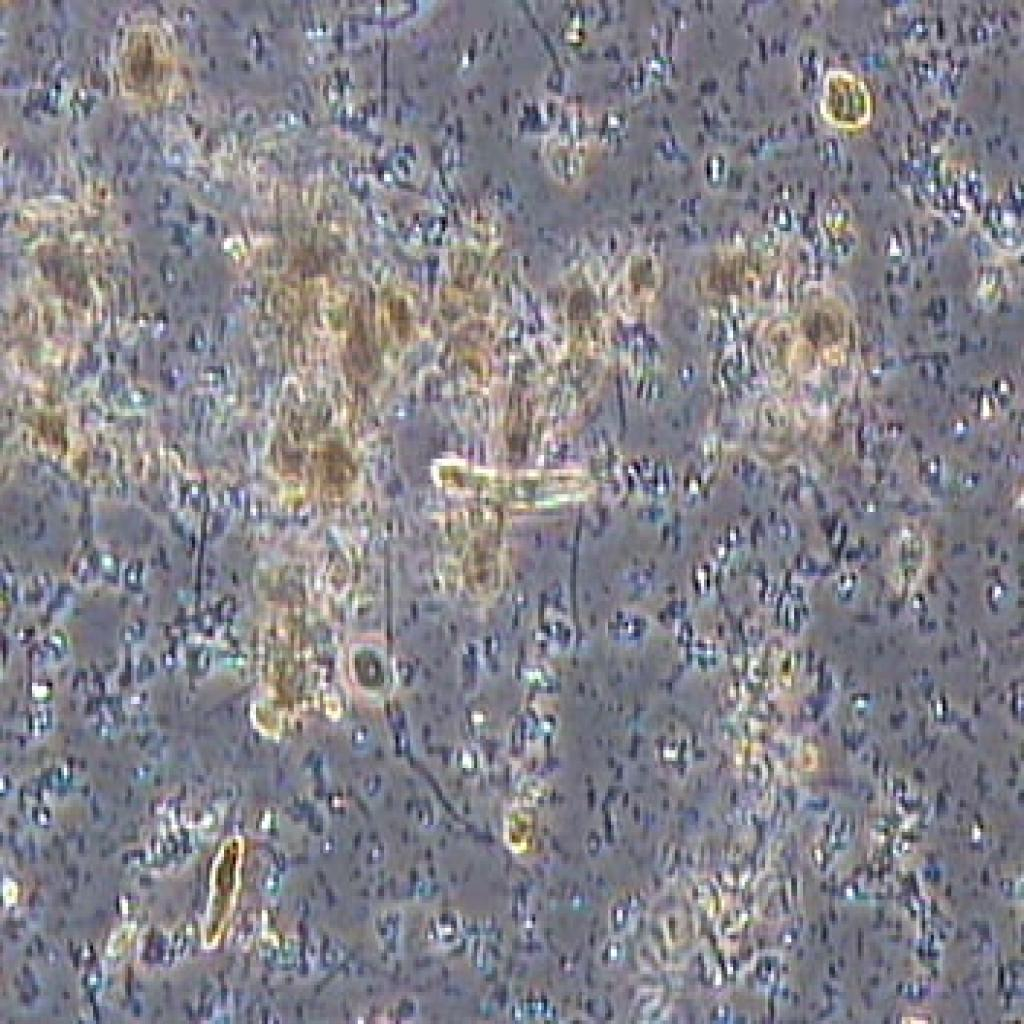Chaetonotus: (426, 425, 615, 539)
